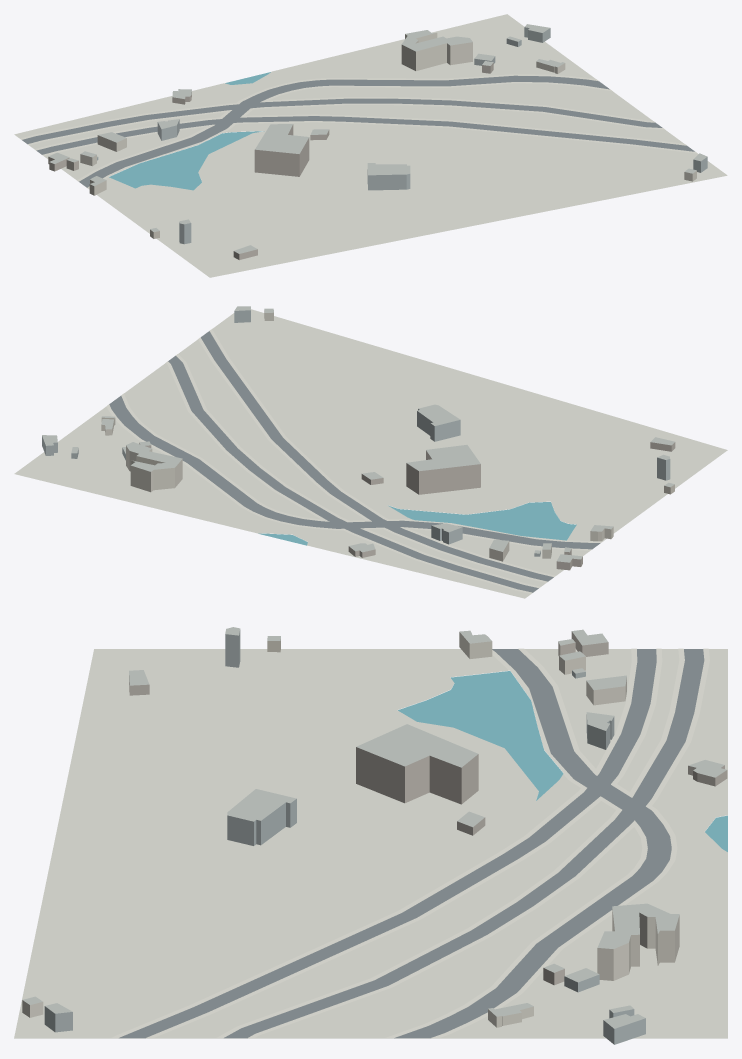
3 renders of one model, top to bottom at view 1: azimuth 30°, elevation 25°; view 2: azimuth 150°, elevation 25°; view 3: azimuth 270°, elevation 25°, orthographic. The views are drawn at different scales.
Parts seen in each view (by area): view 1: city; view 2: city; view 3: city.
Boxes of the visible parts, x1=… form: city: x1=14, y1=14, x2=727, y2=277; city: x1=14, y1=306, x2=727, y2=598; city: x1=14, y1=627, x2=727, y2=1044.
Size of the model in its own units: 518 by 22.28 by 387.
